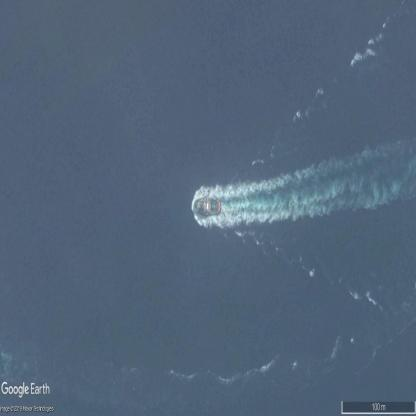ship: (193, 197, 221, 216)
